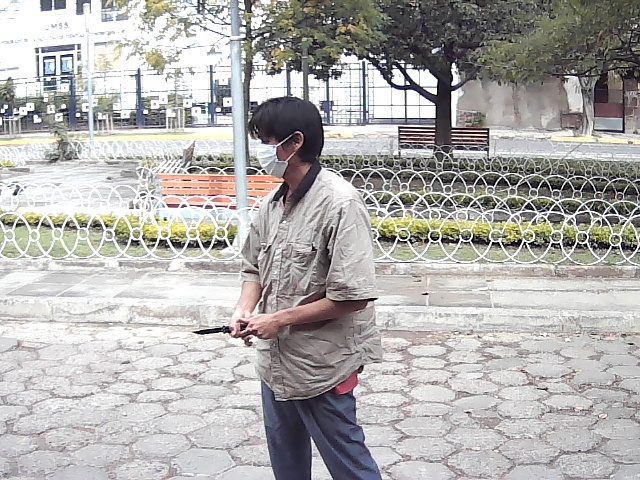cuchillo: (186, 314, 256, 340)
